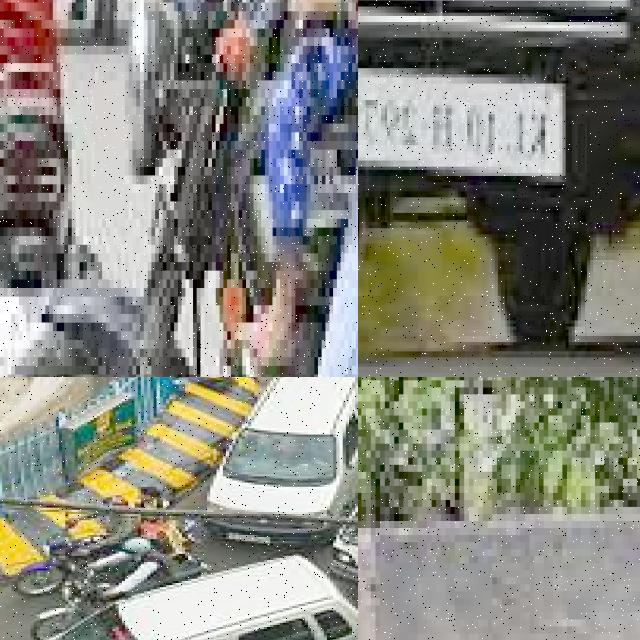bike: (0, 0, 358, 377), (8, 529, 192, 562)
car: (358, 0, 640, 373)
